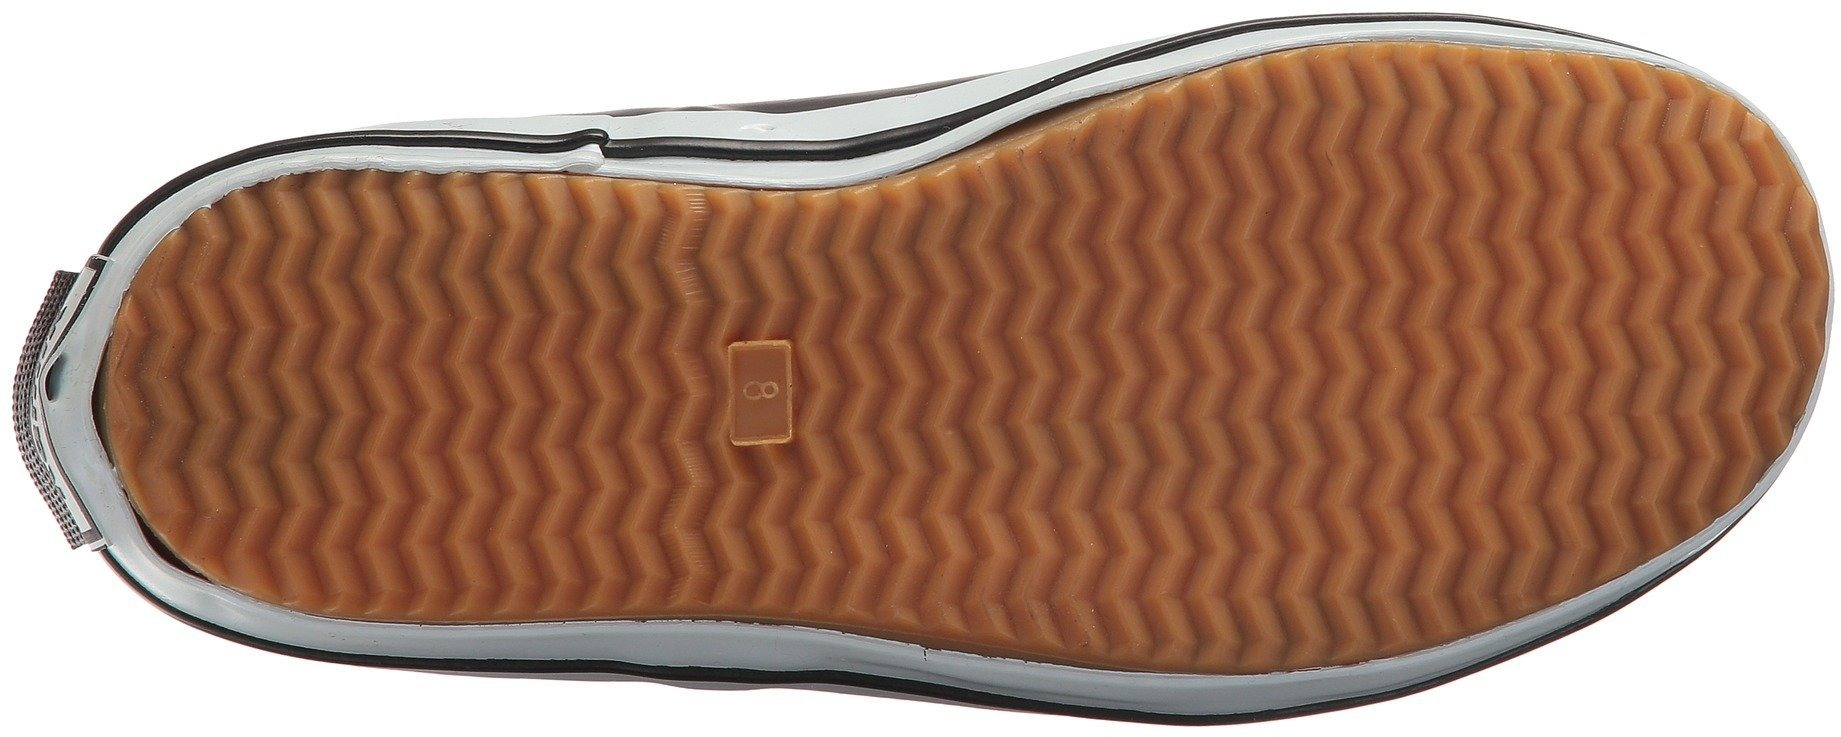chevron: (1397, 94, 1786, 466), (479, 188, 724, 574), (1085, 134, 1389, 422), (150, 261, 461, 532), (807, 204, 1072, 465), (1118, 426, 1357, 633)
text: (739, 364, 783, 419)
